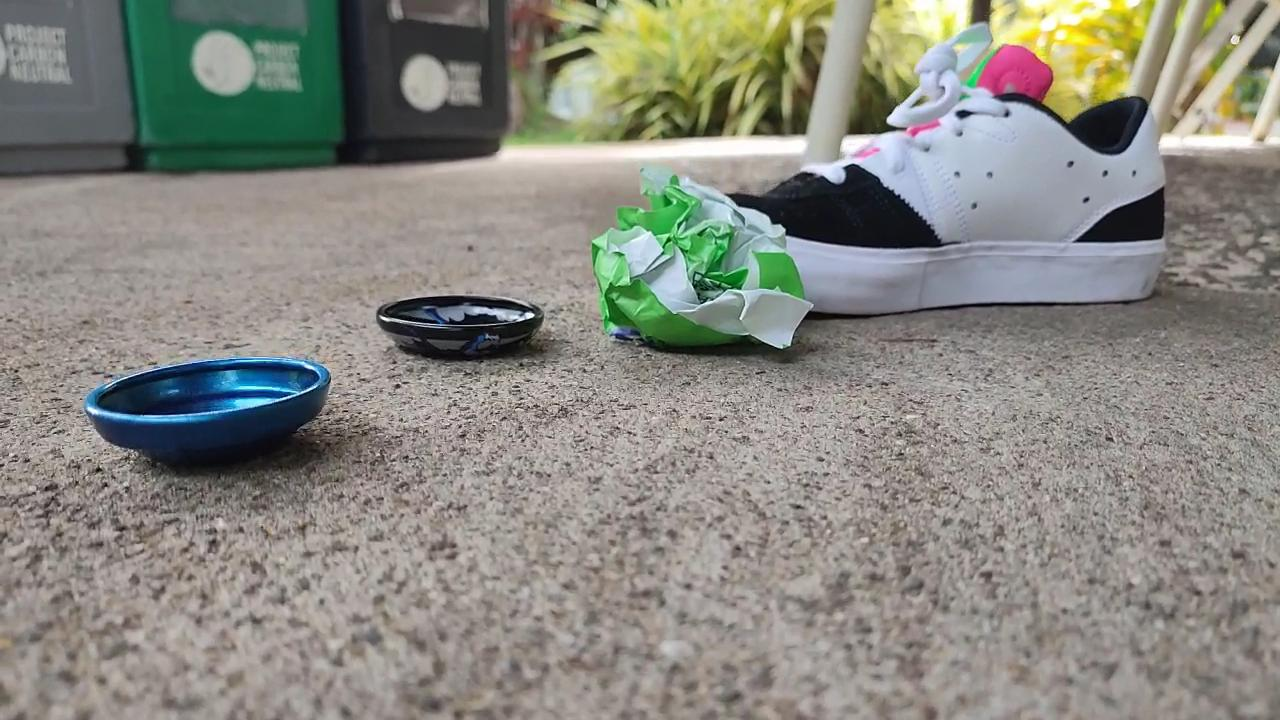Paper: (589, 154, 822, 359)
